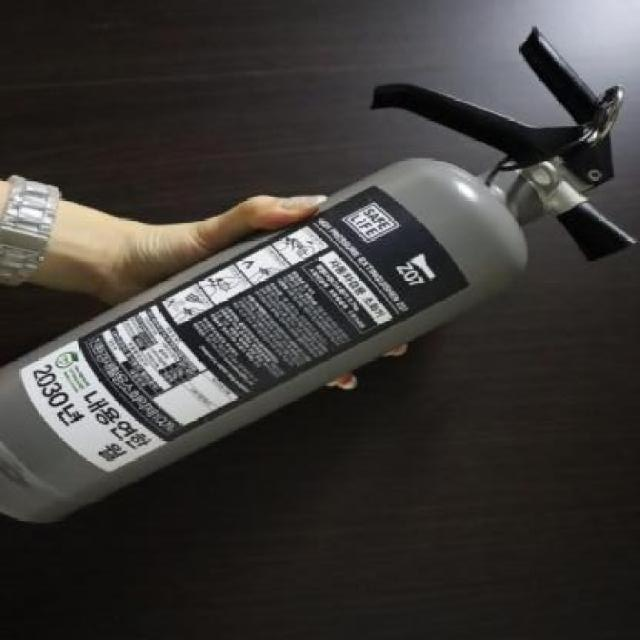fire extinguisher: (0, 26, 639, 524)
